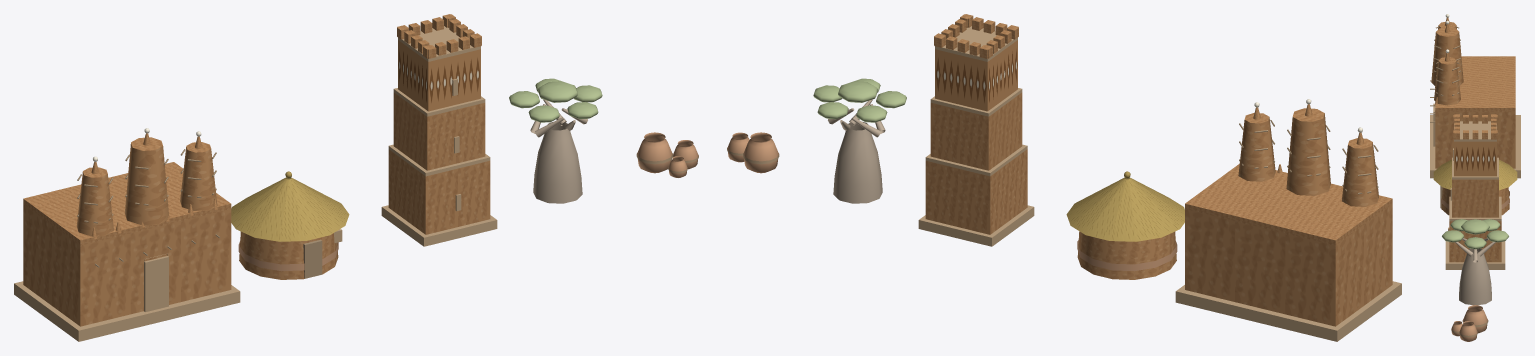
The model's file is kit-26-afrika.glb.
3 renders of one model, left to right at view 1: azimuth 30°, elevation 25°; view 2: azimuth 150°, elevation 25°; view 3: azimuth 270°, elevation 25°, orthographic. The views are drawn at different scales.
Visible parts, largest first — view 1: Afrika_MasjidLumpur, Afrika_MenaraKasbah, Afrika_Rondavel, Afrika_Baobab, Afrika_GuciBesar; view 2: Afrika_MasjidLumpur, Afrika_MenaraKasbah, Afrika_Rondavel, Afrika_Baobab, Afrika_GuciBesar; view 3: Afrika_MasjidLumpur, Afrika_MenaraKasbah, Afrika_Baobab, Afrika_Rondavel, Afrika_GuciBesar.
Part boxes in pixels (<box>): Afrika_MasjidLumpur: <box>14,128,240,341</box>; Afrika_MenaraKasbah: <box>381,14,497,246</box>; Afrika_Rondavel: <box>231,171,349,279</box>; Afrika_Baobab: <box>509,78,602,203</box>; Afrika_GuciBesar: <box>636,132,698,177</box>; Afrika_MasjidLumpur: <box>1175,99,1401,341</box>; Afrika_MenaraKasbah: <box>918,14,1034,246</box>; Afrika_Rondavel: <box>1066,171,1184,279</box>; Afrika_Baobab: <box>813,78,906,203</box>; Afrika_GuciBesar: <box>727,132,779,173</box>; Afrika_MasjidLumpur: <box>1430,14,1520,178</box>; Afrika_MenaraKasbah: <box>1445,114,1505,269</box>; Afrika_Baobab: <box>1442,219,1508,305</box>; Afrika_Rondavel: <box>1433,159,1517,215</box>; Afrika_GuciBesar: <box>1451,305,1488,341</box>.
Size of the model in its own units: 29.98 by 8.45 by 5.2.
9 materials, 3 textured.
